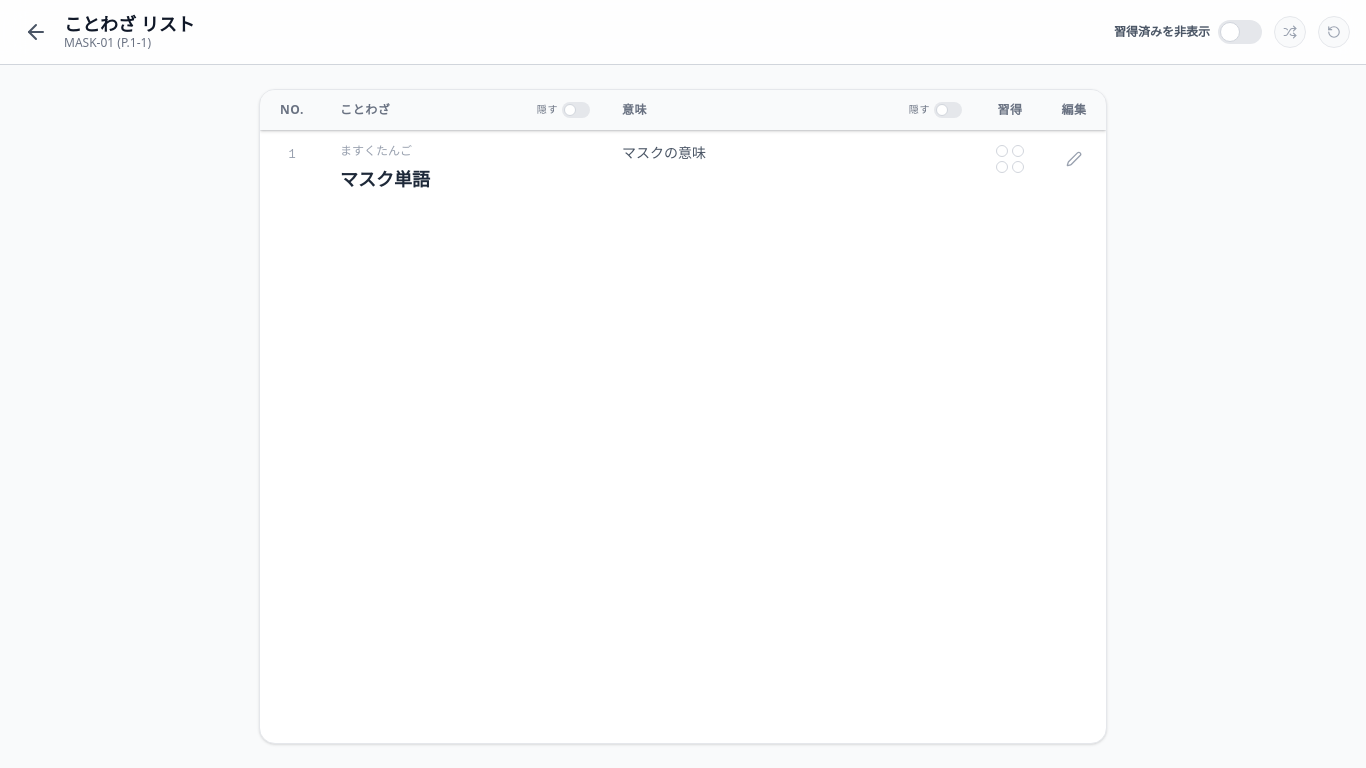
WordList Masking Feature › 左の「隠す」をONにすると左カラムがマスクされる
Expected: the text "マスク単語" is shown, x1=340 y1=167 x2=430 y2=191
// Click Left Toggle
Click the 1st checkbox "隠す" at point(563, 110), box x1=537 y1=102 x2=590 y2=118
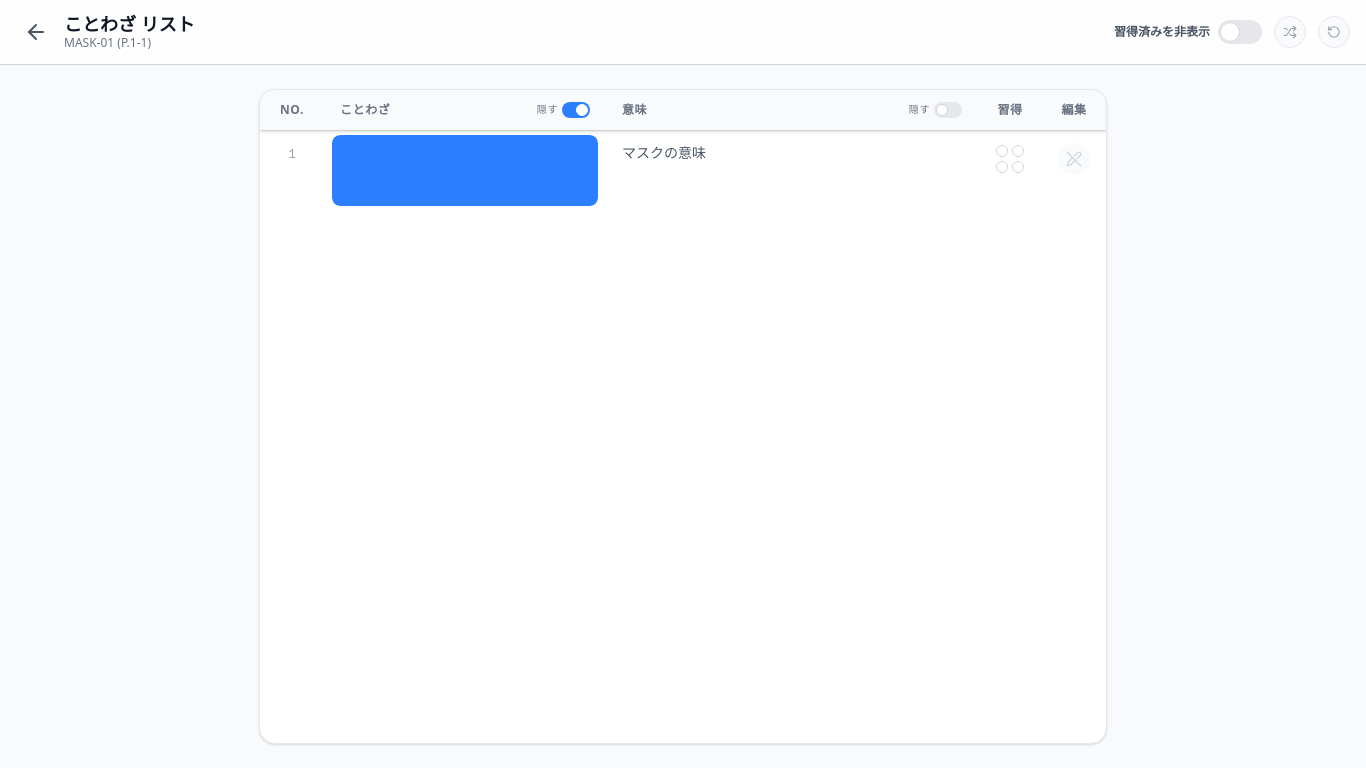
Result: the button titled "タップで表示" is shown at x1=332 y1=135 x2=598 y2=206
